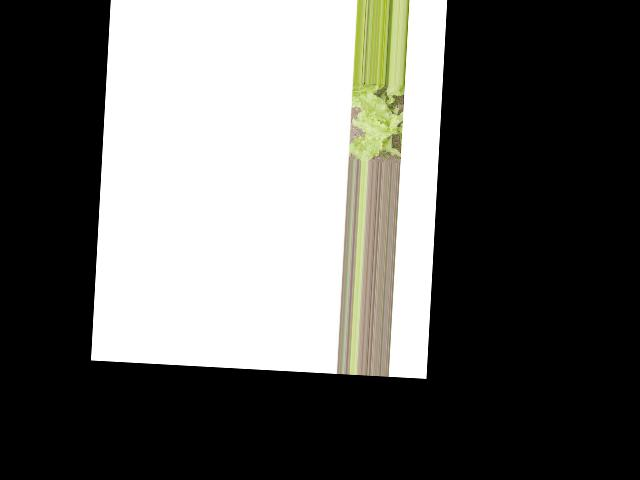lettuce: (350, 82, 408, 162)
